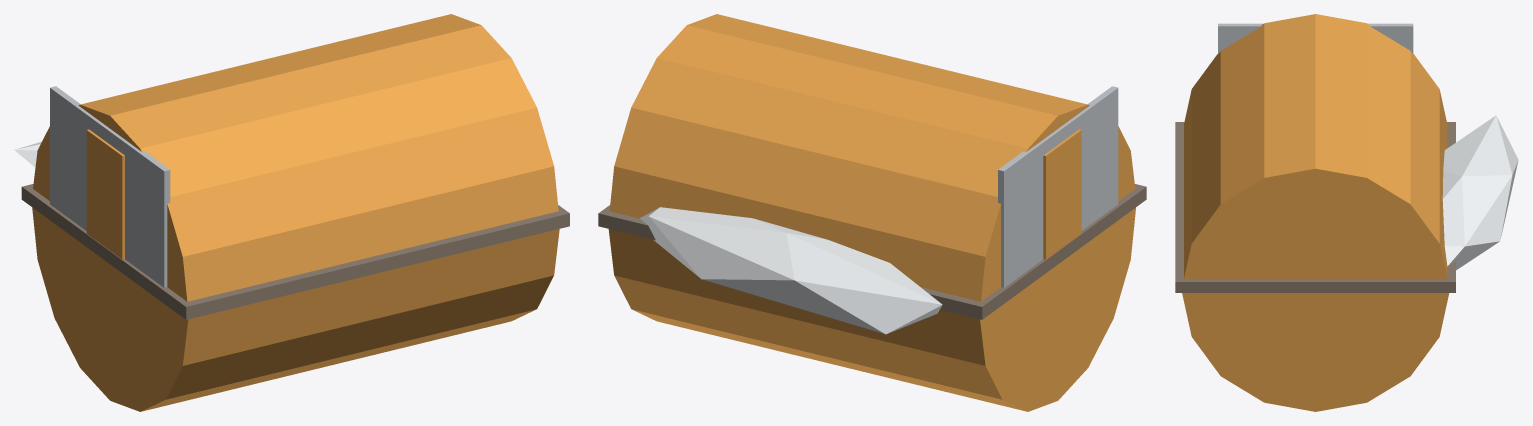
File: Weatherhaven.glb
3 renders of one model, left to right at view 1: azimuth 30°, elevation 25°; view 2: azimuth 150°, elevation 25°; view 3: azimuth 270°, elevation 25°, orthographic. The views are drawn at different scales.
Parts seen in each view (by area): view 1: Shelter, End wall, Floor, Door.004; view 2: Shelter, Drift.001, End wall, Floor, Door.004; view 3: Shelter, Drift.001, Floor, End wall.
Boxes of the visible parts, left/top/right/bottom form: Shelter: left=32, top=14, right=559, bottom=411; End wall: left=50, top=86, right=170, bottom=287; Floor: left=21, top=184, right=569, bottom=319; Door.004: left=86, top=129, right=124, bottom=259; Shelter: left=608, top=14, right=1135, bottom=411; Drift.001: left=640, top=207, right=942, bottom=334; End wall: left=998, top=86, right=1118, bottom=287; Floor: left=598, top=184, right=1146, bottom=319; Door.004: left=1043, top=129, right=1081, bottom=259; Shelter: left=1182, top=14, right=1449, bottom=411; Drift.001: left=1442, top=115, right=1518, bottom=270; Floor: left=1175, top=122, right=1455, bottom=292; End wall: left=1218, top=23, right=1413, bottom=53.
Bounding box in the file's own units: 6.2 × 4.4 × 5.63.
